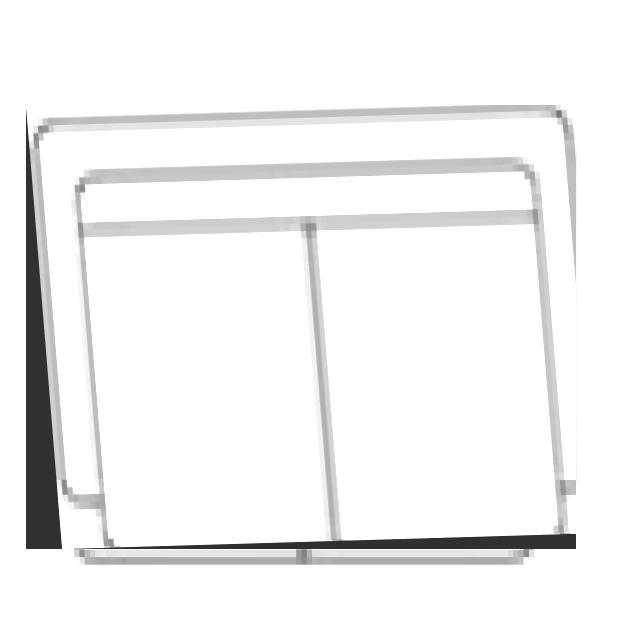sofa: (26, 106, 576, 550)
